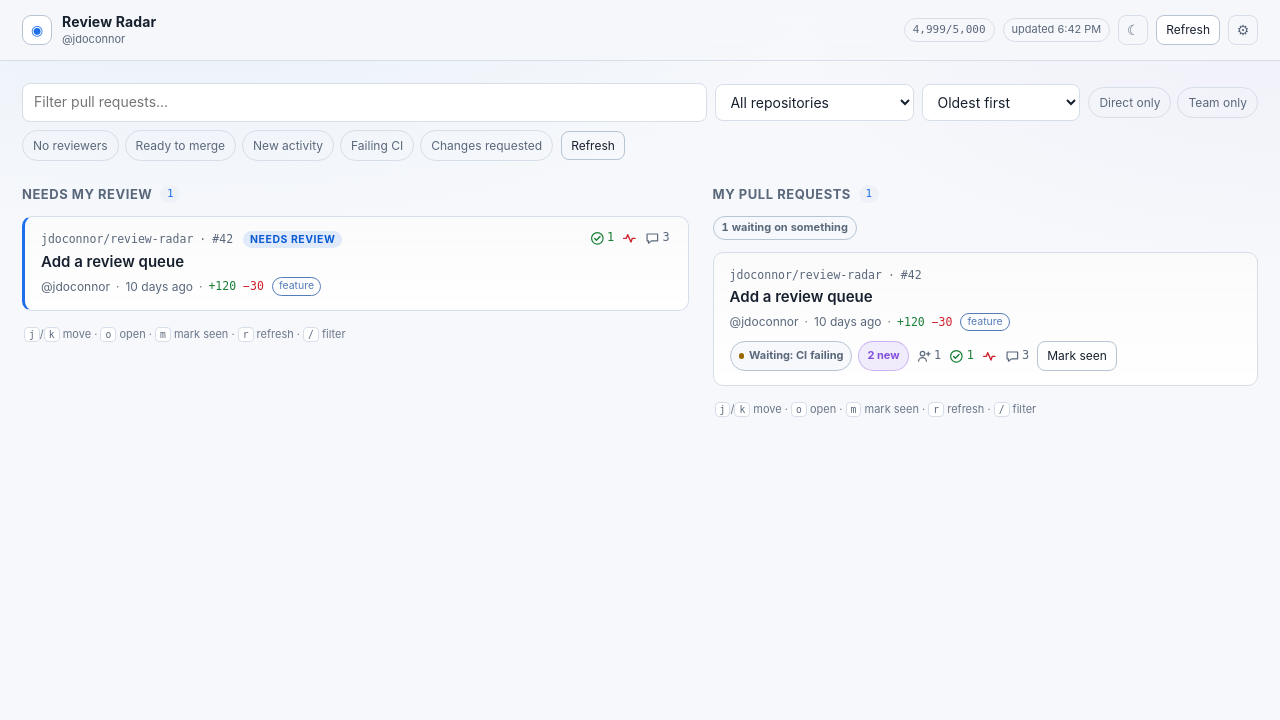
Test: token handling › signing out clears the token, cached responses and last-seen marks
Expected: the element with test id "review-queue" is shown, [22,185,689,343]
What coordinates should you click on to do the following:
click the button with test id "open-settings"
I would click on:
 (1243, 30)
Its box is [1228,15,1258,45].
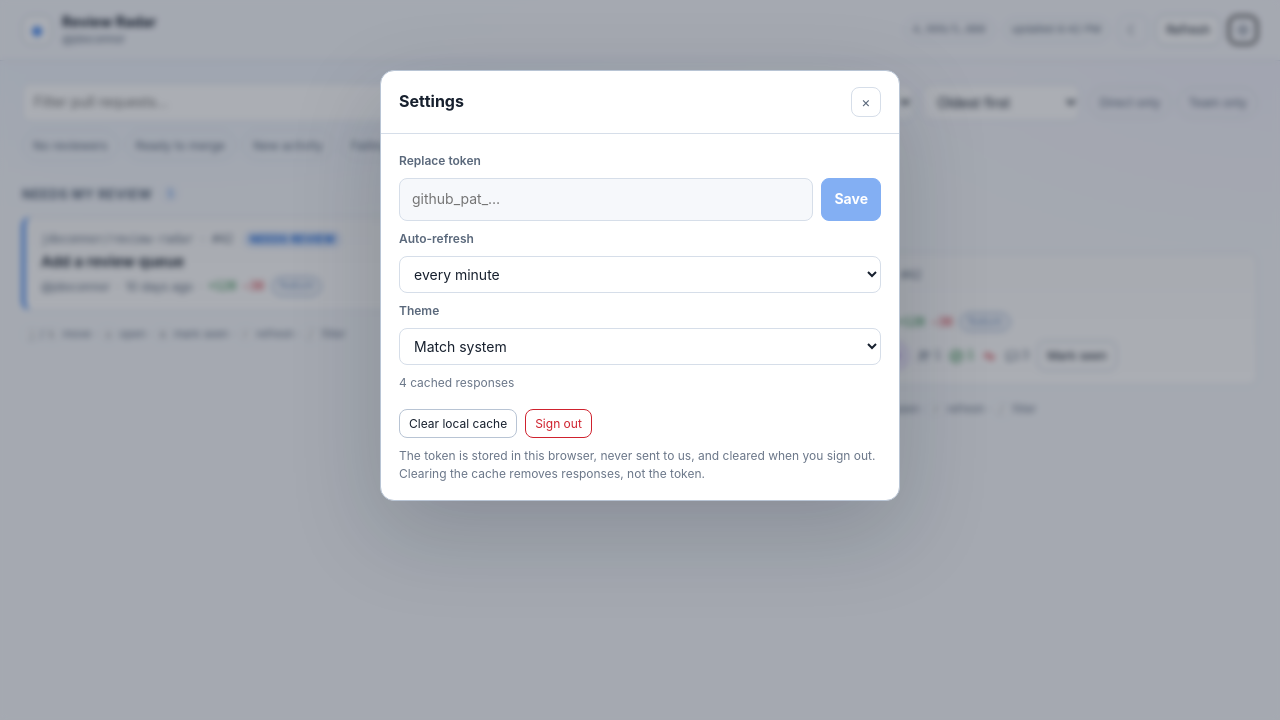
What coordinates should you click on to do the following:
click the button with test id "sign-out"
I would click on:
 (559, 424)
Its box is [525,409,592,438].
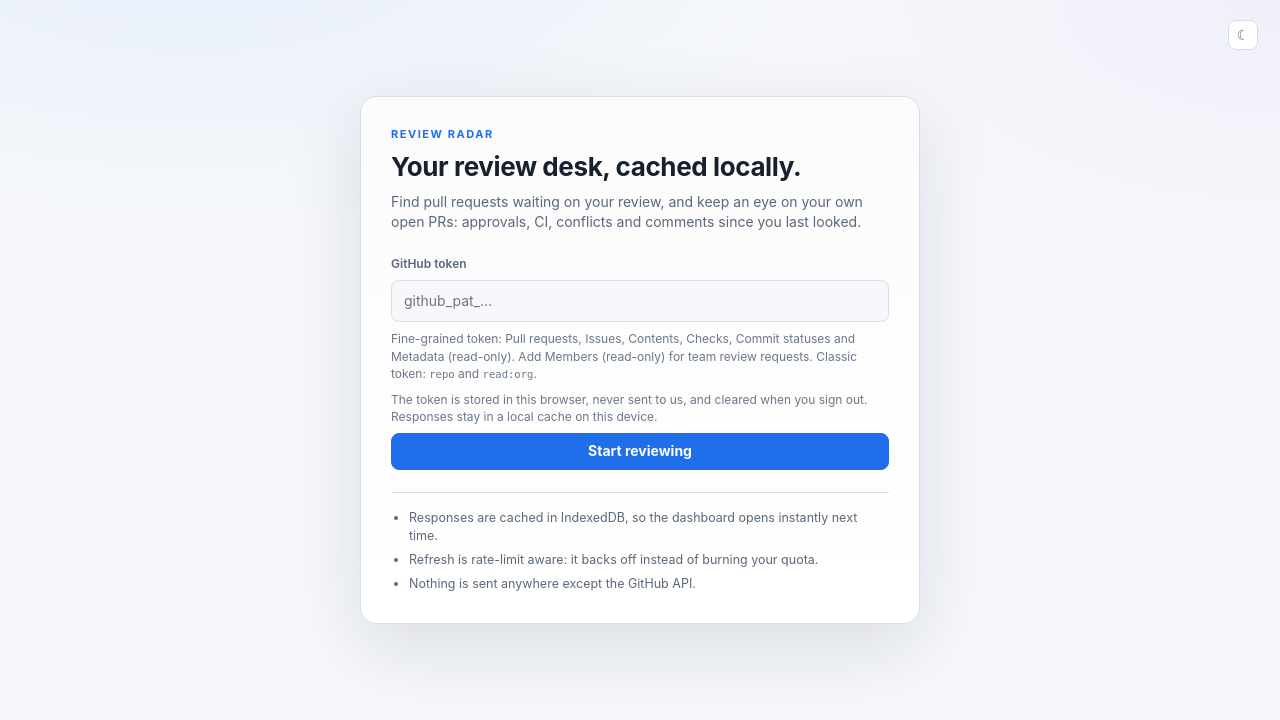
Result: the heading "Your review desk, cached locally." is shown at [391,151,801,182]
